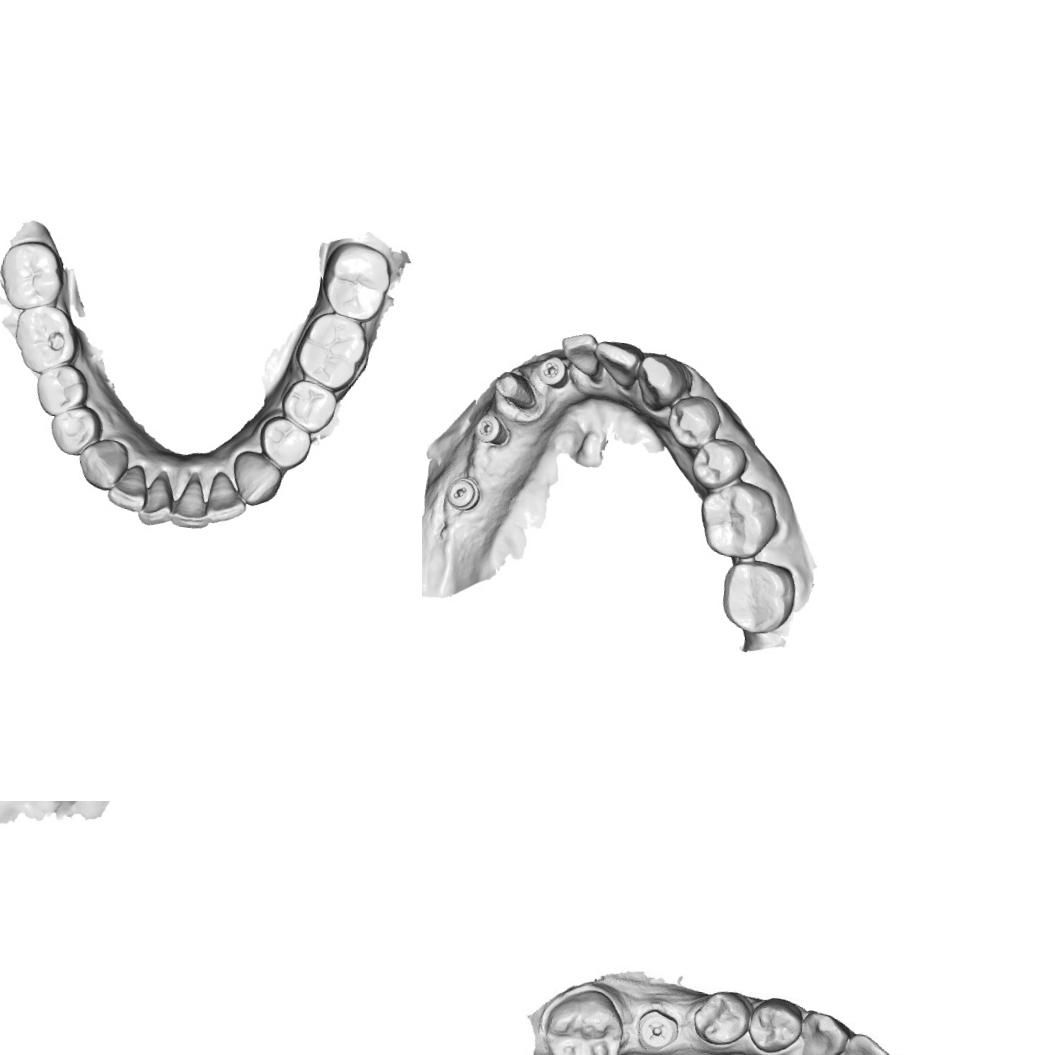canine: (630, 349, 697, 416), (227, 447, 287, 511), (74, 432, 134, 494), (794, 1007, 851, 1055)
crown: (488, 368, 546, 419)
implant_minus: (442, 472, 486, 516)
implant_plus: (637, 1004, 682, 1050), (470, 411, 512, 450), (532, 352, 572, 392)
incisor: (169, 470, 218, 534), (588, 336, 644, 390), (134, 470, 184, 530), (203, 468, 251, 530), (103, 458, 154, 516), (556, 330, 604, 379), (831, 1028, 891, 1055)
molar: (693, 474, 784, 564), (714, 555, 802, 641), (314, 237, 398, 327), (288, 306, 372, 396), (538, 984, 627, 1055), (7, 300, 84, 380), (0, 233, 69, 316)
premolar: (742, 991, 807, 1055), (687, 988, 754, 1050), (252, 412, 316, 476), (276, 376, 341, 438), (31, 359, 94, 422), (662, 391, 725, 454), (687, 432, 751, 494), (46, 399, 108, 460)
